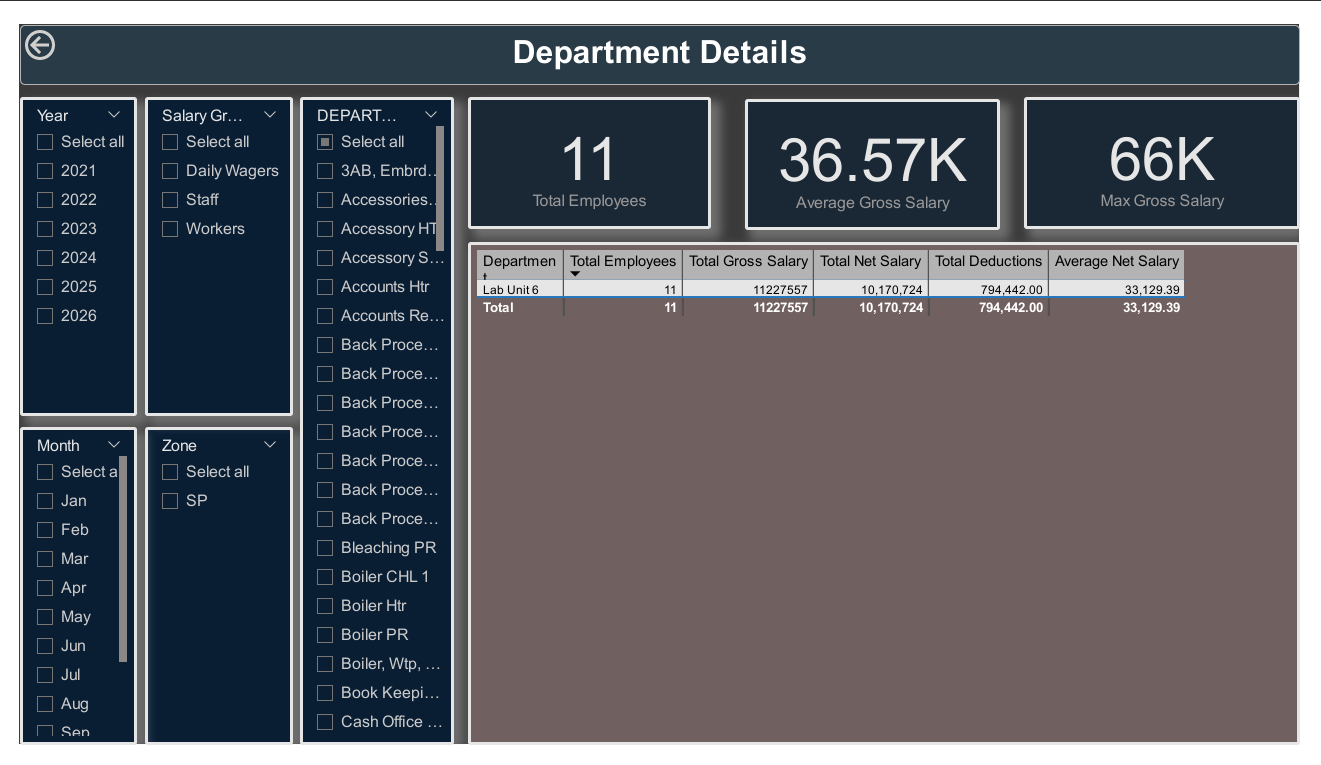

The dashboard page shown, as its layout file describes it:
{"tool":"powerbi","page":{"name":"Department Details","canvas":[1280,720],"ordinal":7},"visuals":[{"type":"slicer","fields":{"Values":["AI_PAYROLL_DATA.YEAR"]},"box":[0,72.4,117,318.5],"z":0},{"type":"slicer","fields":{"Values":["AI_PAYROLL_DATA.ZONE"]},"box":[125.5,401.7,147.2,318.5],"z":1000},{"type":"slicer","fields":{"Values":["AI_PAYROLL_DATA.SALARY_GROUP"]},"box":[125.5,72.4,147.2,318.5],"z":2000},{"type":"textbox","box":[0,0,1280.3,60.4],"z":3000},{"type":"slicer","fields":{"Values":["AI_PAYROLL_DATA.DEPARTMENT"]},"box":[282.3,72.4,153.2,647.9],"z":4000},{"type":"tableEx","fields":{"Values":["AI_PAYROLL_DATA.DEPARTMENT","AI_PAYROLL_DATA.Total Employees","AI_PAYROLL_DATA.Total Gross Salary","AI_PAYROLL_DATA.Total Net Salary","AI_PAYROLL_DATA.Total Deductions","AI_PAYROLL_DATA.Average Net Salary"]},"box":[447.6,217.2,832.4,503.1],"z":5000},{"type":"slicer","fields":{"Values":["DateTable.Month"]},"box":[0,401.7,117,318.5],"z":6000},{"type":"actionButton","box":[0,0,100,40],"z":7000},{"type":"card","fields":{"Values":["AI_PAYROLL_DATA.Total Employees"]},"box":[447.6,72.4,243.7,131.5],"z":8000},{"type":"card","fields":{"Values":["AI_PAYROLL_DATA.Average Gross Salary"]},"box":[725.1,73.6,254.6,131.5],"z":9000},{"type":"card","fields":{"Values":["AI_PAYROLL_DATA.Max Gross Salary"]},"box":[1003.8,72.4,276.3,131.5],"z":10000}]}

Visuals, with their boxes in screenshot pixels (x1, y1, x2, y2), scaled from the page's 1280x720 canvas onto the 1321x765 screenshot:
slicer - AI_PAYROLL_DATA.YEAR: 0, 77, 121, 415
slicer - AI_PAYROLL_DATA.ZONE: 130, 427, 281, 764
slicer - AI_PAYROLL_DATA.SALARY_GROUP: 130, 77, 281, 415
textbox: 0, 0, 1320, 64
slicer - AI_PAYROLL_DATA.DEPARTMENT: 291, 77, 449, 764
tableEx - AI_PAYROLL_DATA.DEPARTMENT x AI_PAYROLL_DATA.Total Employees: 462, 231, 1320, 764
slicer - DateTable.Month: 0, 427, 121, 764
actionButton: 0, 0, 103, 42
card - AI_PAYROLL_DATA.Total Employees: 462, 77, 713, 217
card - AI_PAYROLL_DATA.Average Gross Salary: 748, 78, 1011, 218
card - AI_PAYROLL_DATA.Max Gross Salary: 1036, 77, 1320, 217
